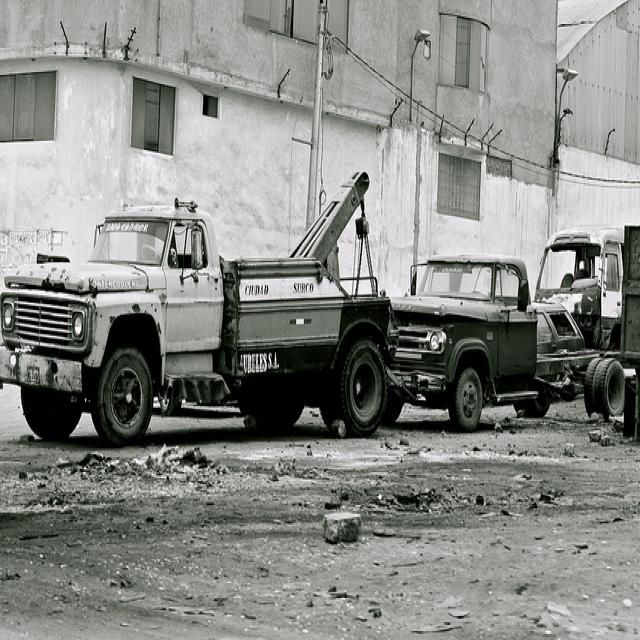Vehicle: (2, 166, 394, 441), (4, 167, 392, 436), (378, 254, 626, 434), (533, 220, 640, 369), (536, 230, 625, 350)
